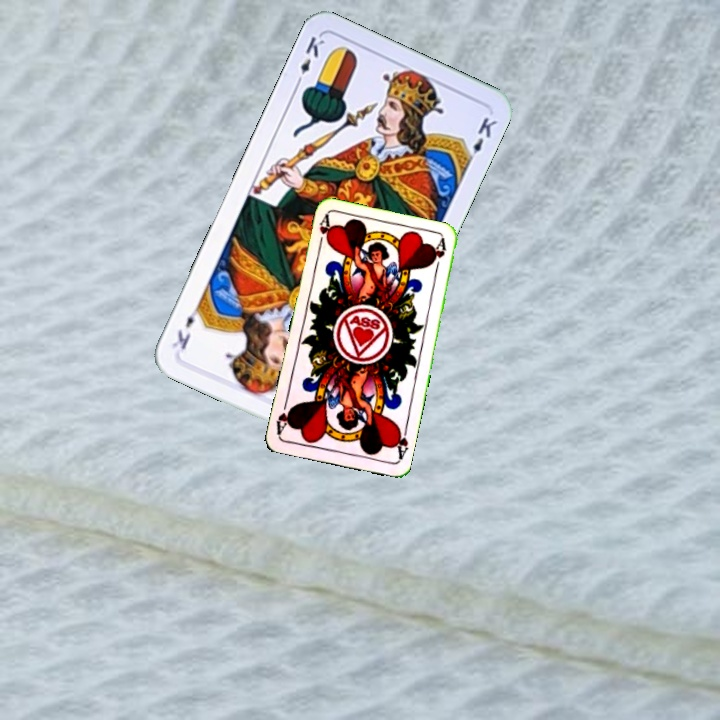EK: (291, 32, 327, 89)
HA: (314, 212, 335, 252), (390, 422, 410, 462)
